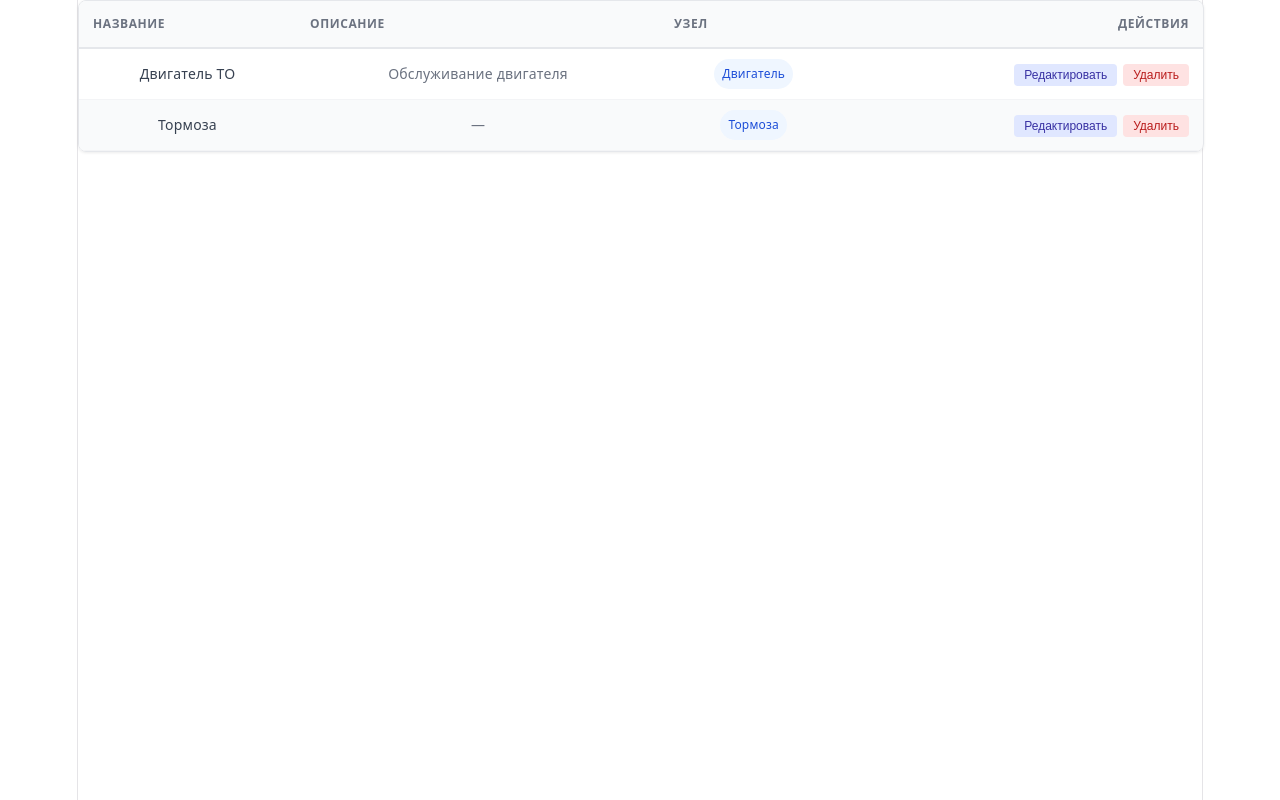
Test: CategoryTable › показывает ошибку удаления если deleteCategory бросает исключение
The image size is (1280, 800).
Click the button with test id "category-table-delete-cat1": [1156, 75] box [1123,64,1189,86]
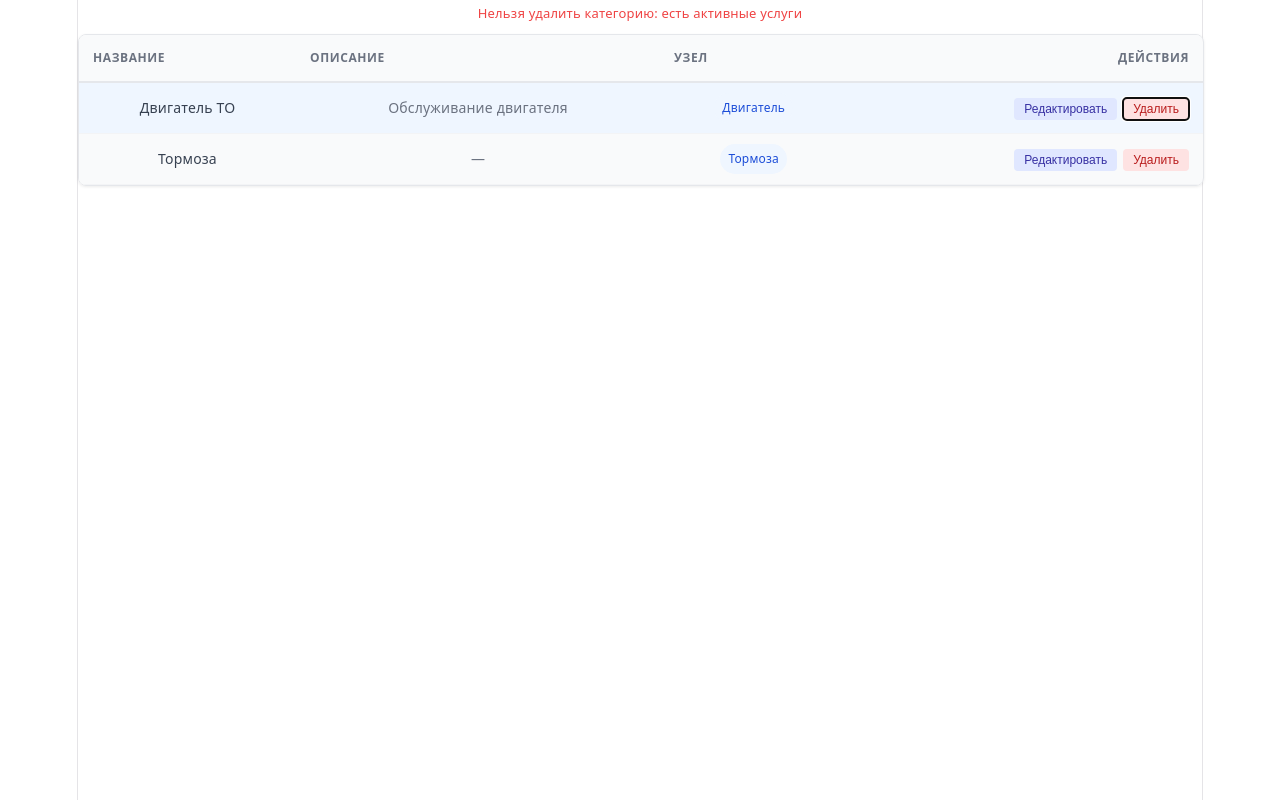
Expected: the text with test id "category-table-delete-error" shows "Нельзя удалить категорию", [478,4,802,22]
